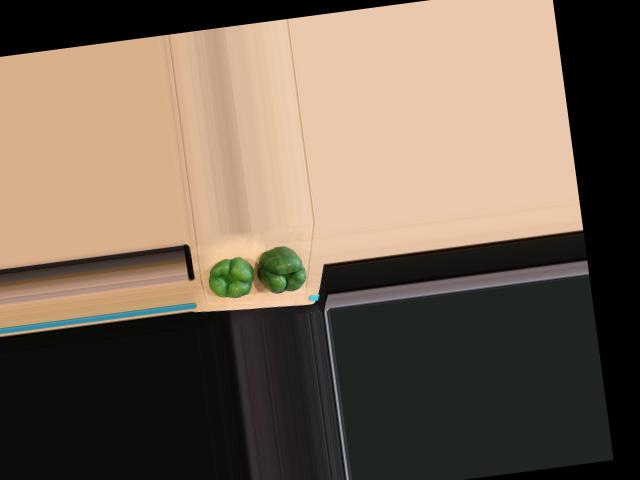bell_pepper: (206, 249, 258, 301)
